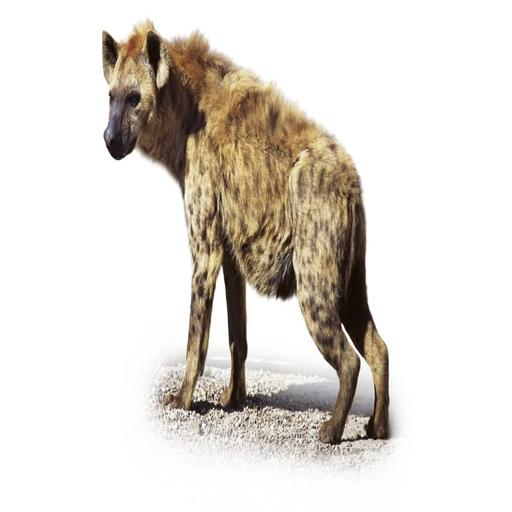Hyena: (98, 20, 395, 448)
